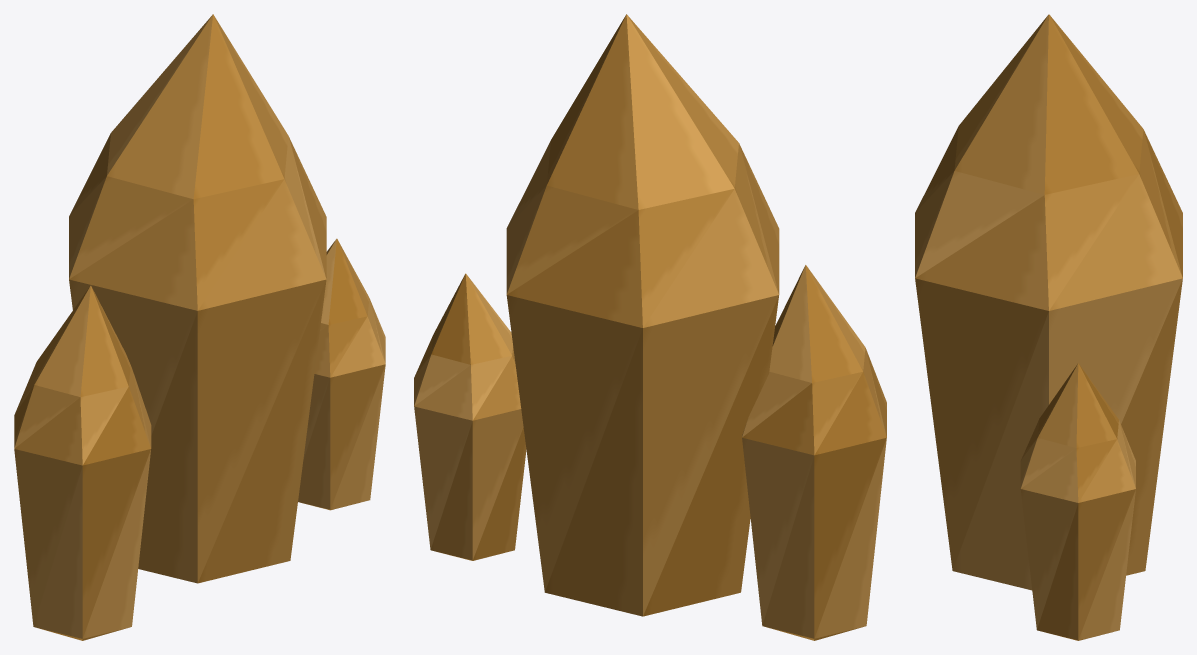
File: earth-crystal.glb
The picture shows the model from 3 angles, left to right: view 1: azimuth 30°, elevation 25°; view 2: azimuth 150°, elevation 25°; view 3: azimuth 270°, elevation 25°; orthographic projection. The views are drawn at different scales.
Parts seen in each view (by area): view 1: crystal; view 2: crystal; view 3: crystal.
Boxes of the visible parts, x1,y1,x2,y2 form: crystal: (14,14,385,640); crystal: (414,14,886,640); crystal: (915,14,1182,640).
Size of the model in its own units: 0.251 by 0.3354 by 0.1368.
1 material, 1 textured.
